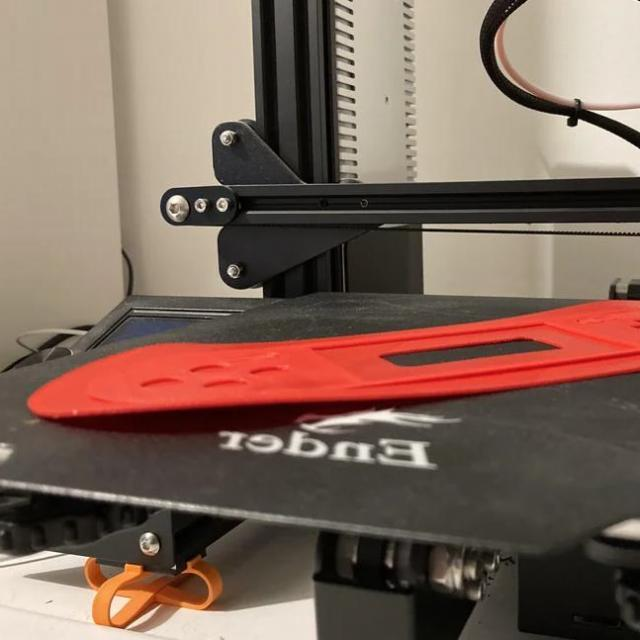Warping: (186, 391, 364, 419)
